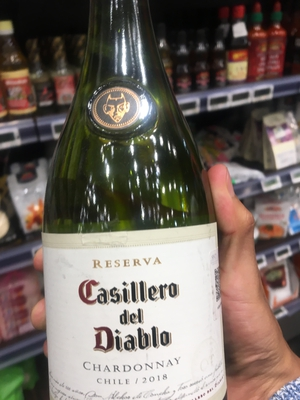casillero del diablo chardonnay: (35, 35, 230, 400)
